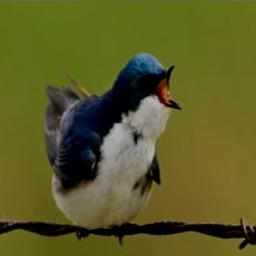Swallow: (44, 47, 186, 244)
